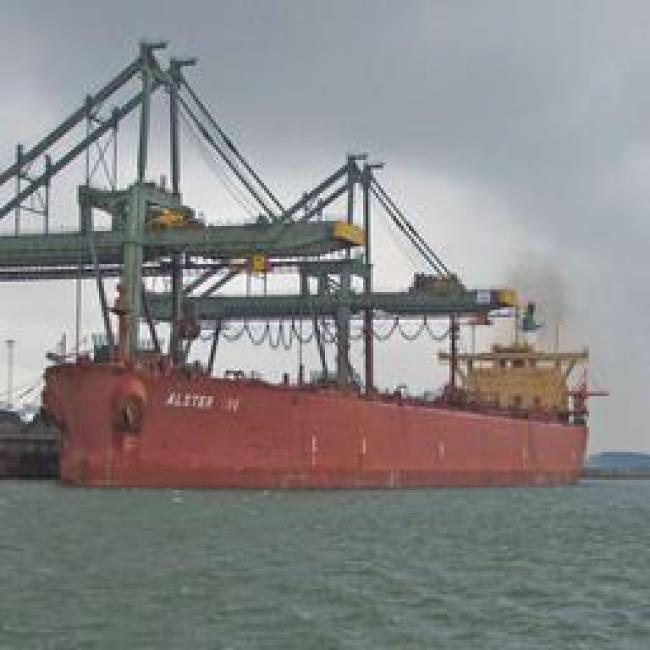Ship: (46, 332, 606, 501)
